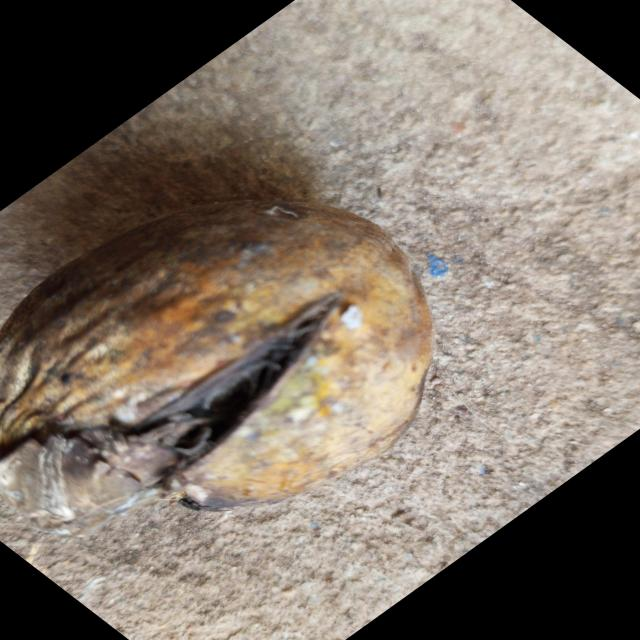damaged: (0, 201, 432, 524)
